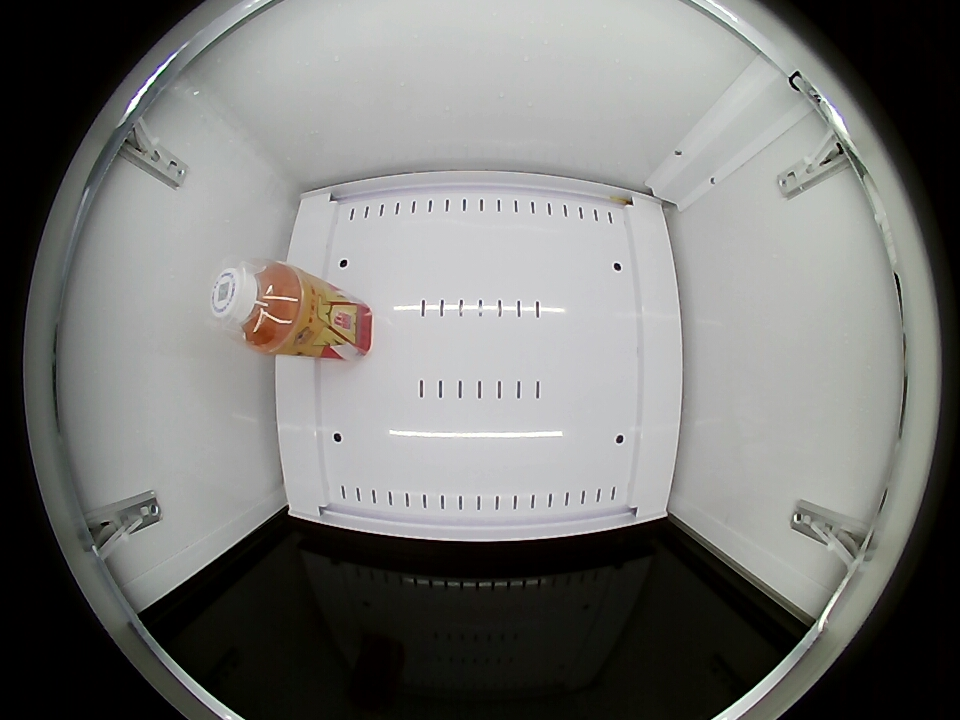dongpeng-b: (210, 259, 308, 352)
